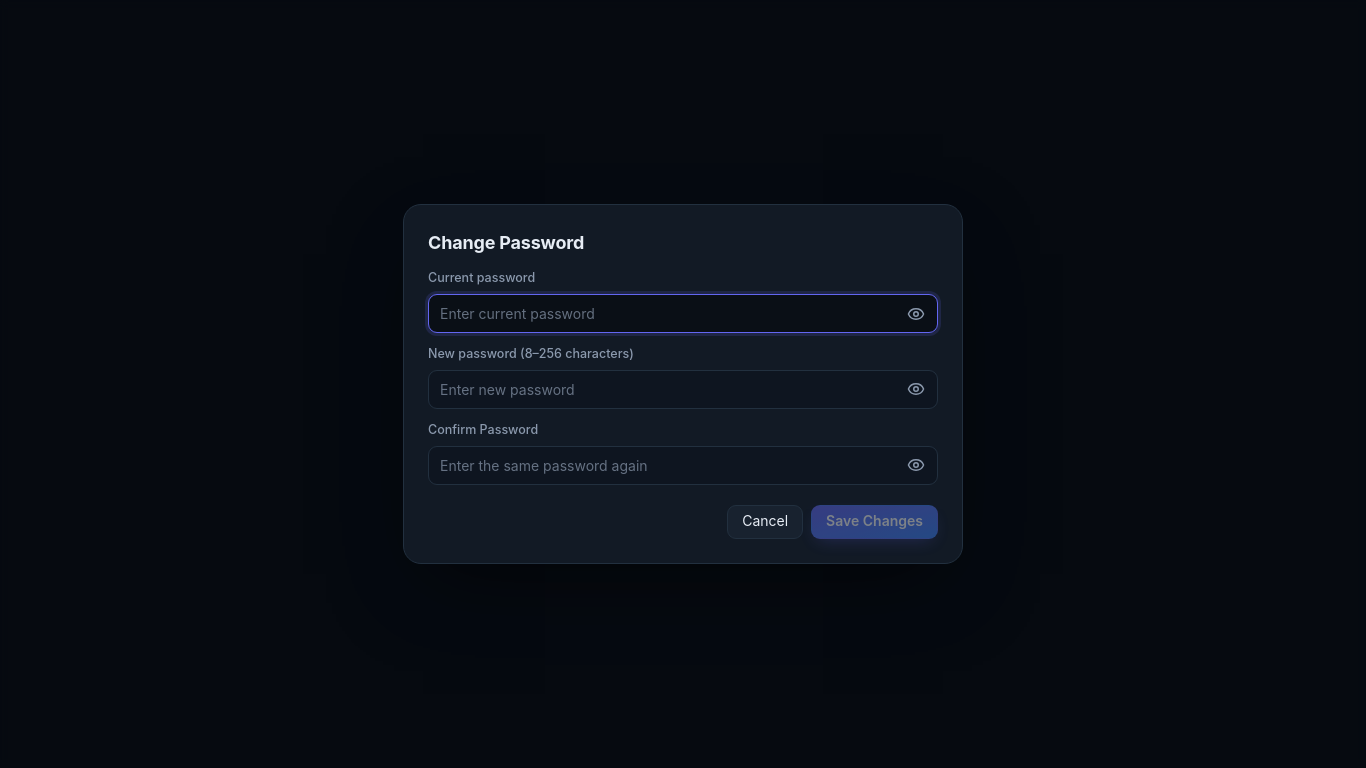
Test: password dialog › keeps the dialog open and shows a backend error
Type "wrong-secret" into the password field labelled "Current password".
click(683, 314); type("wrong-secret")  # box [428,294,938,333]
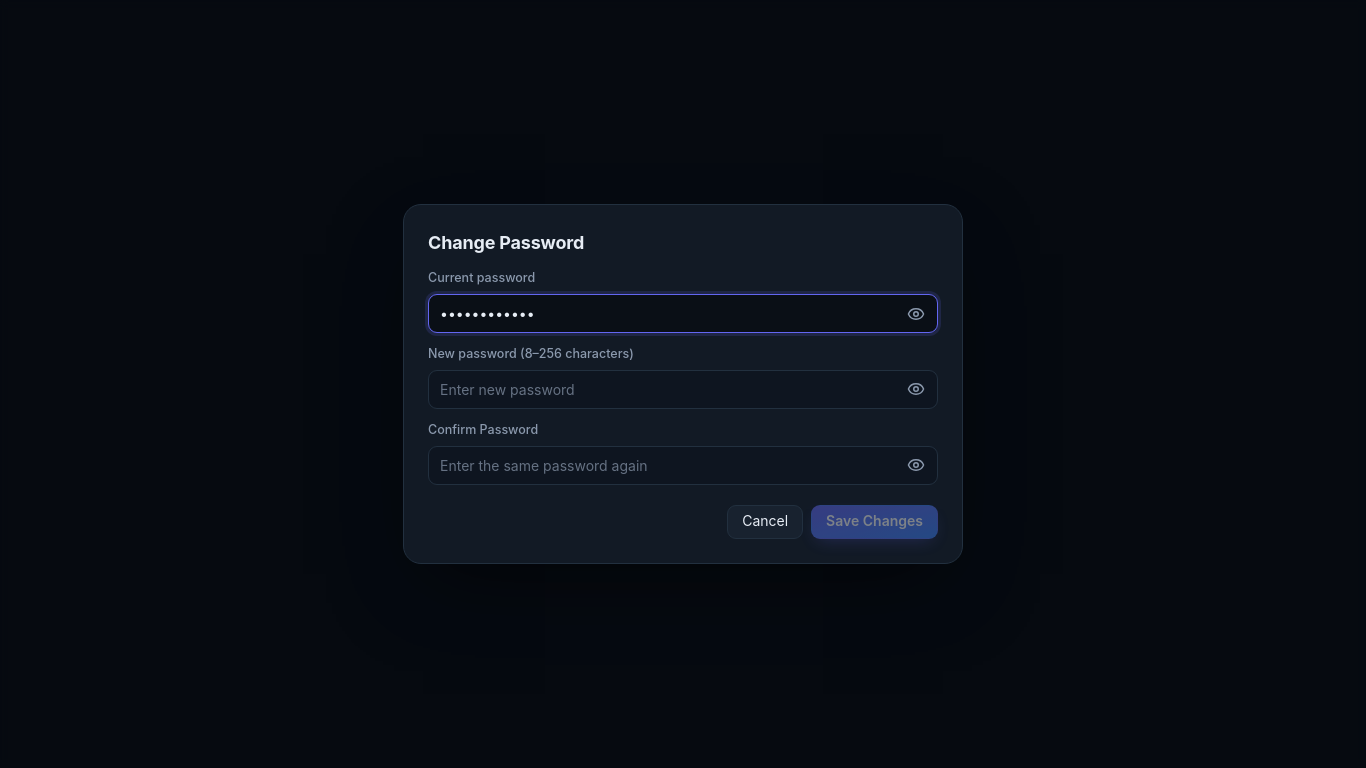
Type "new-secret-123" into the password field labelled "New password (8–256 characters)".
click(683, 389); type("new-secret-123")  # box [428,370,938,409]
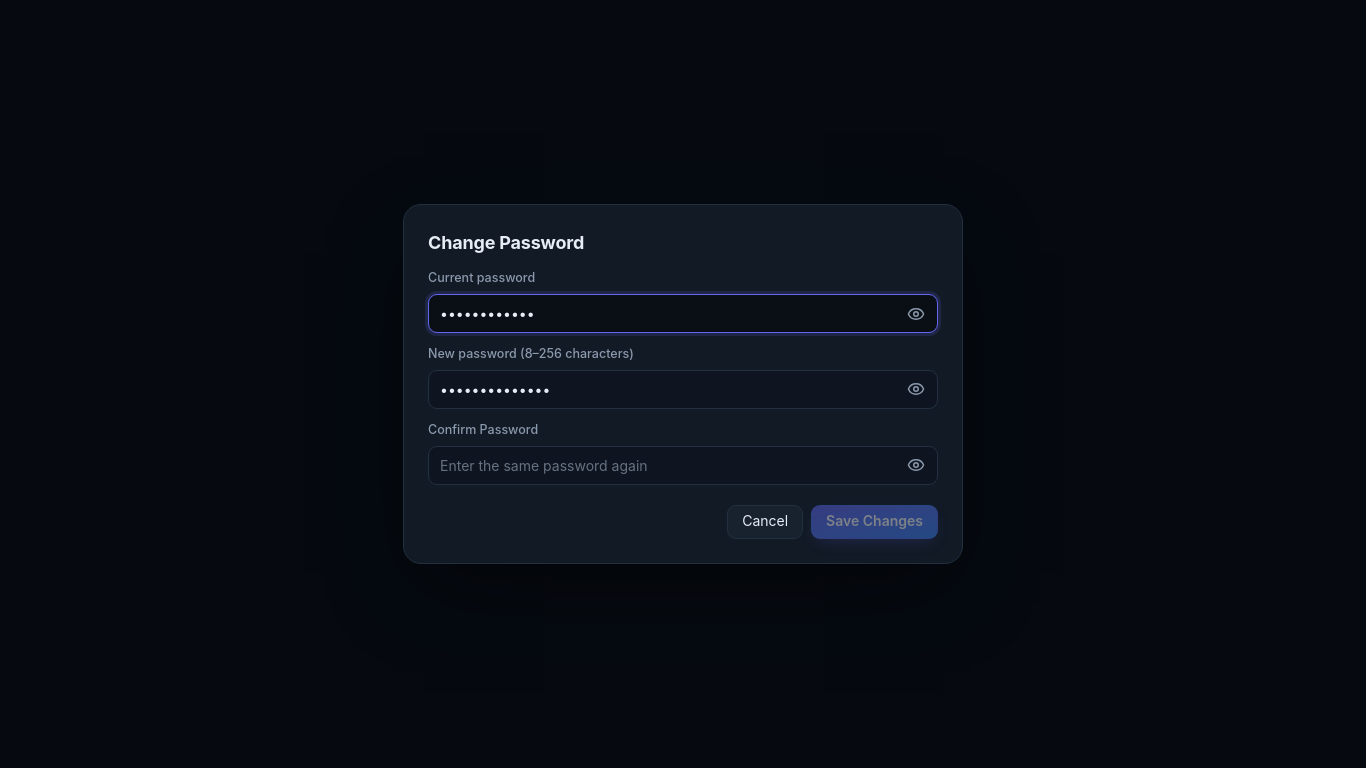
Type "new-secret-123" into the password field labelled "Confirm Password".
click(683, 465); type("new-secret-123")  # box [428,446,938,485]
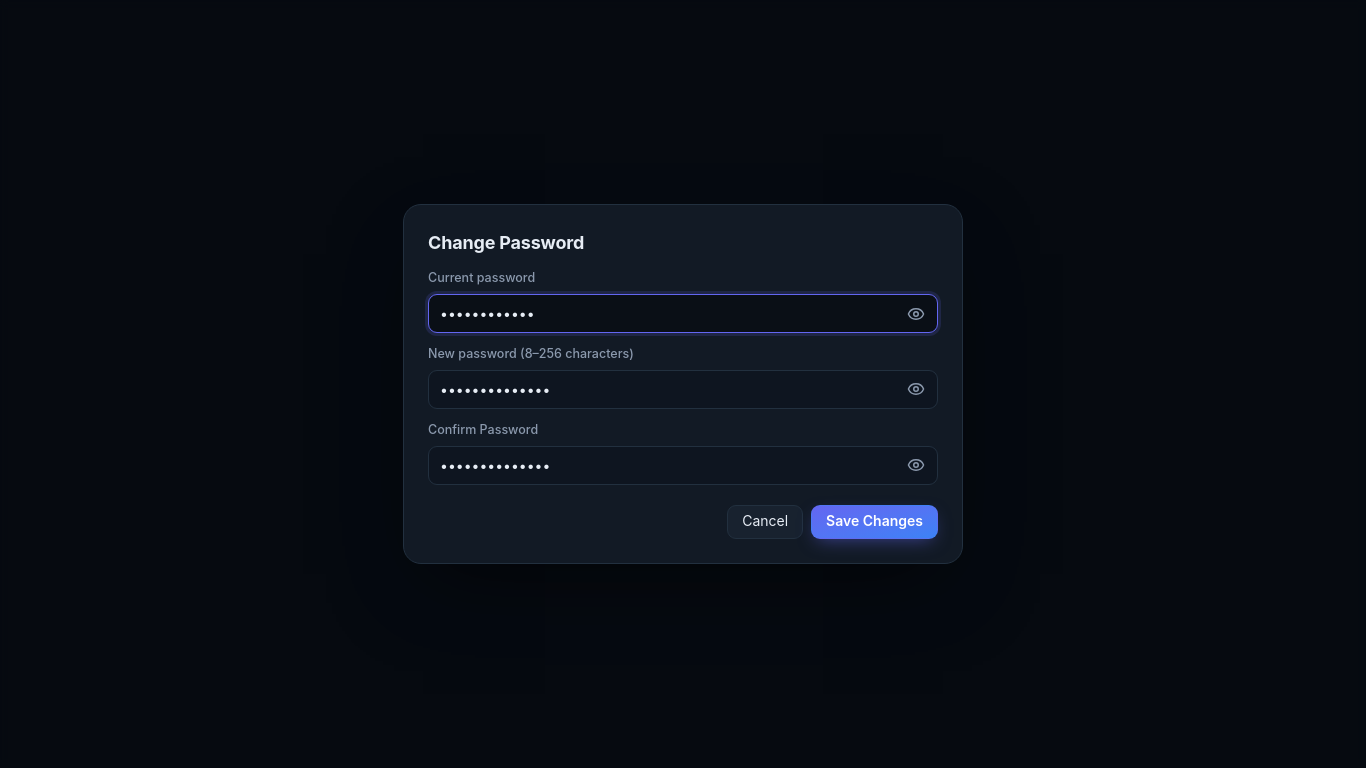
Click the button "Save Changes".
click(875, 522)  # box [811,505,938,539]
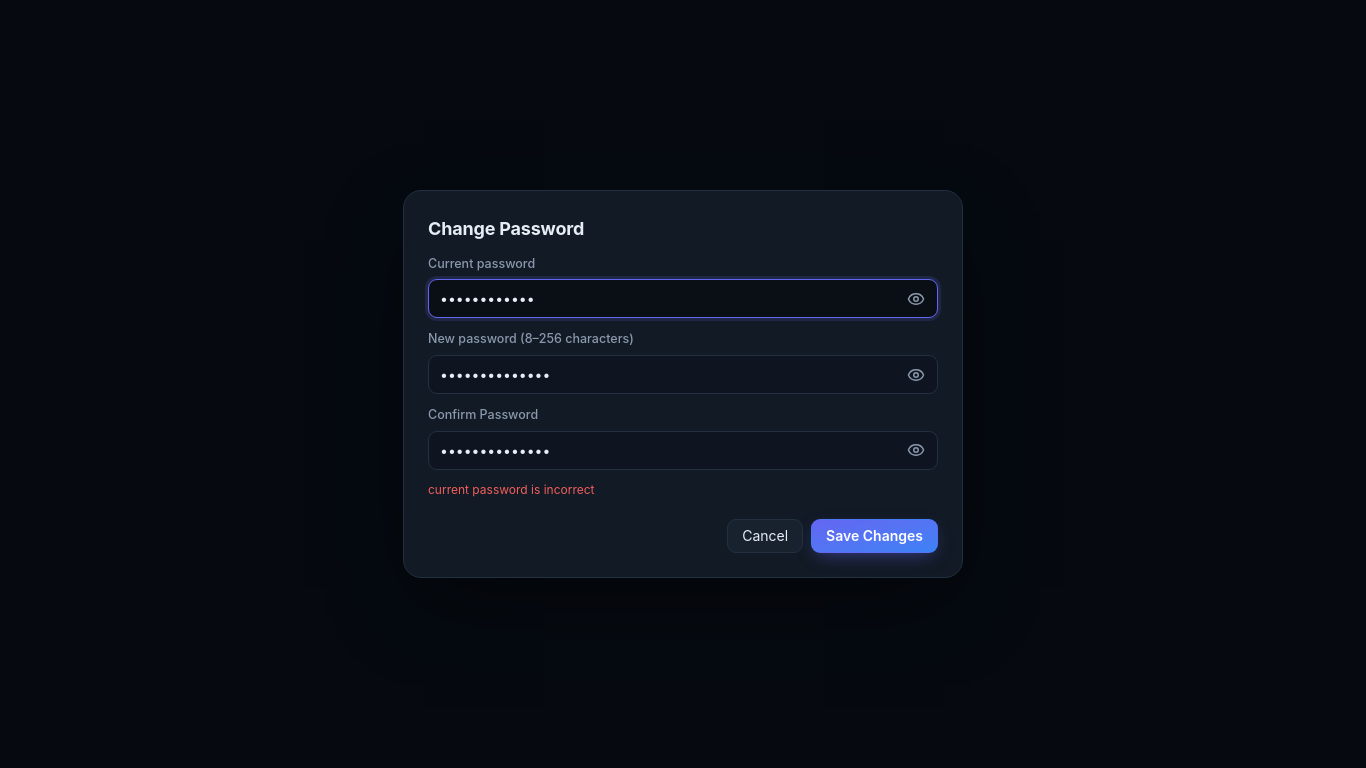
Now the text "current password is incorrect" is shown, box [428,482,594,497]
